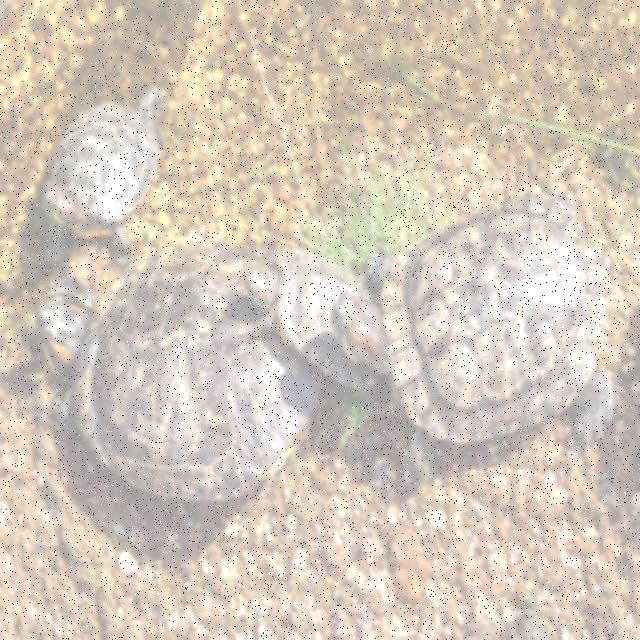tortoise: (26, 241, 308, 531), (351, 213, 621, 442), (38, 90, 175, 234)
